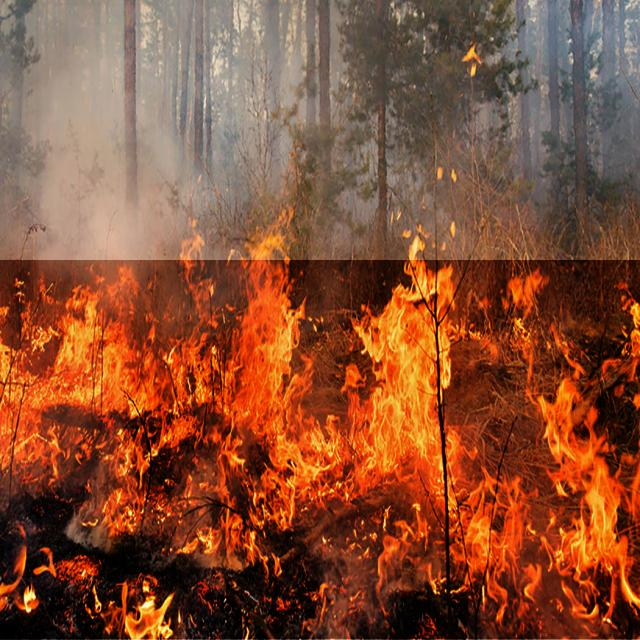Fire: (0, 223, 640, 639)
Smoke: (0, 6, 640, 260)
